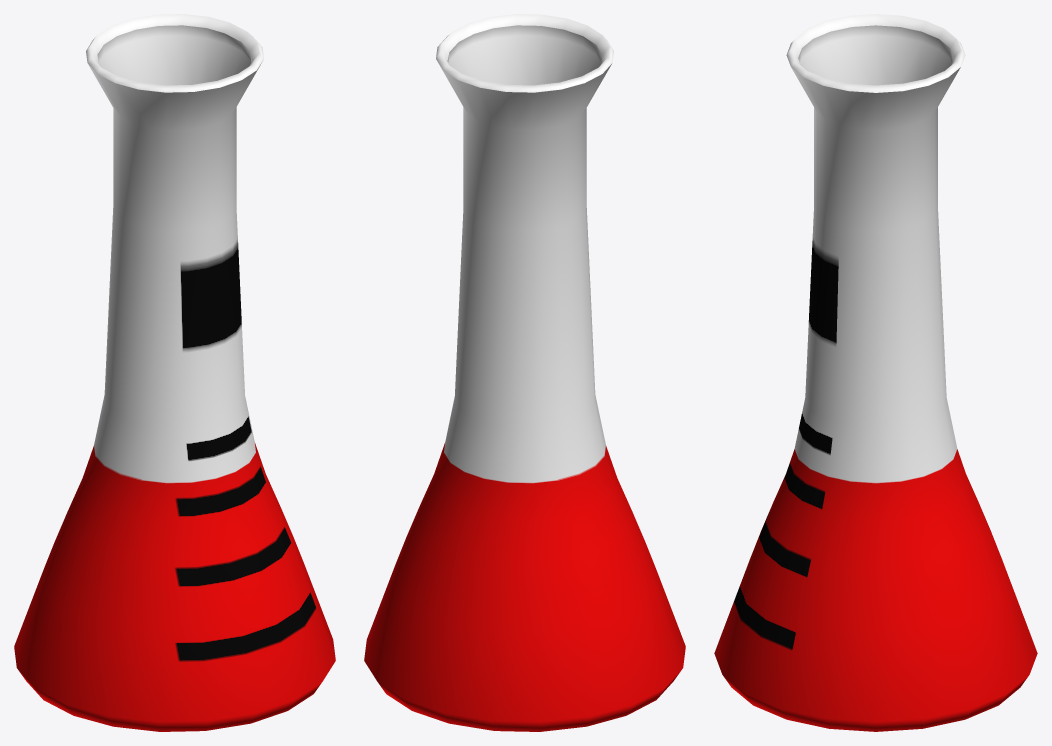
File: healthPickup.fbx
3 views of the same model, side by side, from view 1: azimuth 30°, elevation 25°; view 2: azimuth 150°, elevation 25°; view 3: azimuth 270°, elevation 25° (orthographic).
Parts seen in each view (by area): view 1: pasted__pasted__polySurface2; view 2: pasted__pasted__polySurface2; view 3: pasted__pasted__polySurface2.
Part boxes in pixels (left/top/right/bottom): pasted__pasted__polySurface2: left=14, top=14, right=335, bottom=731; pasted__pasted__polySurface2: left=364, top=14, right=685, bottom=731; pasted__pasted__polySurface2: left=714, top=14, right=1037, bottom=731.
Bounding box in the file's own units: 0.6026 × 1.3 × 0.6026.
